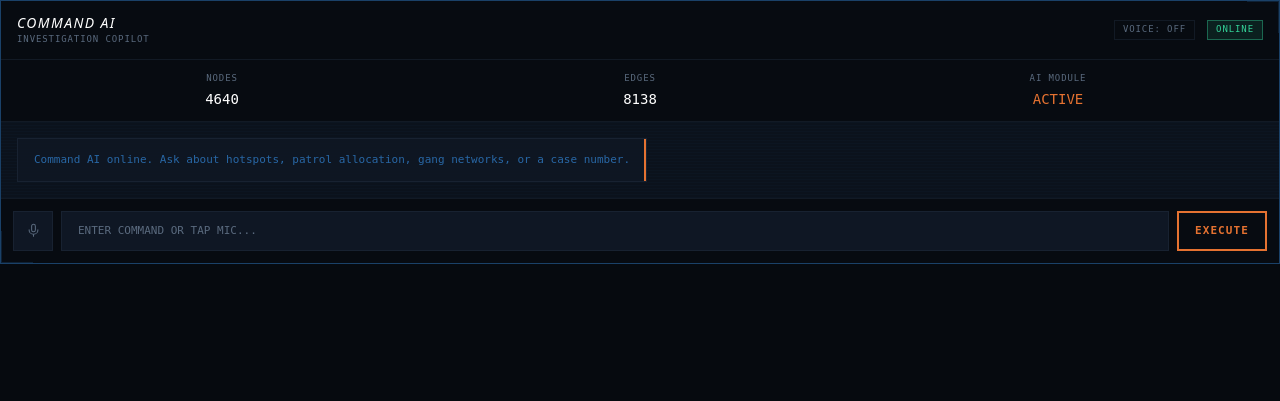
Scenario: CommandConsole › sends a chat query and displays the response
In the field named "Ask Command AI": x=615, y=231 [61, 211, 1169, 251], type "why is central zone high risk"
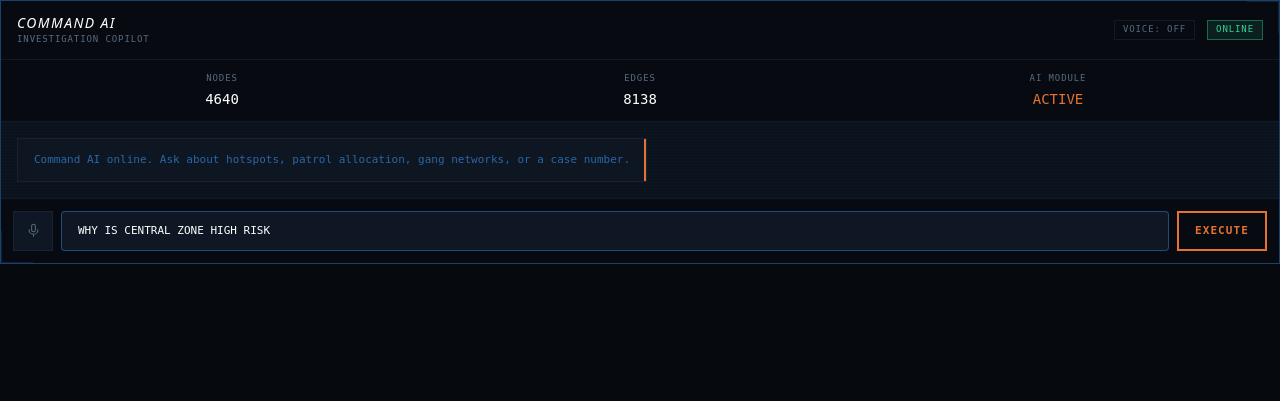
Click the button "EXECUTE": x=1222, y=231 [1177, 211, 1267, 251]
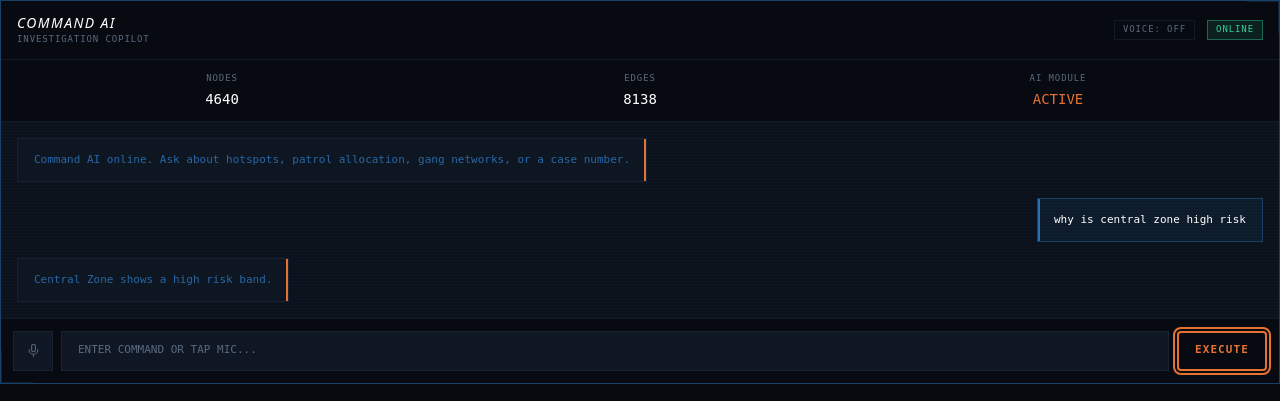
Check: the text "Central Zone shows a high risk band." is shown, box [17, 258, 289, 302]
